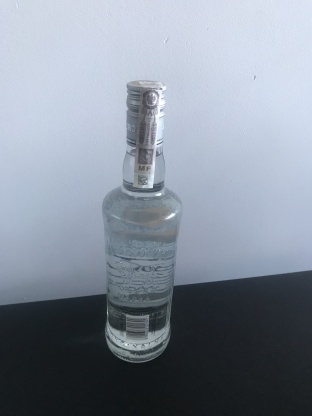nakretka: (123, 76, 168, 149)
